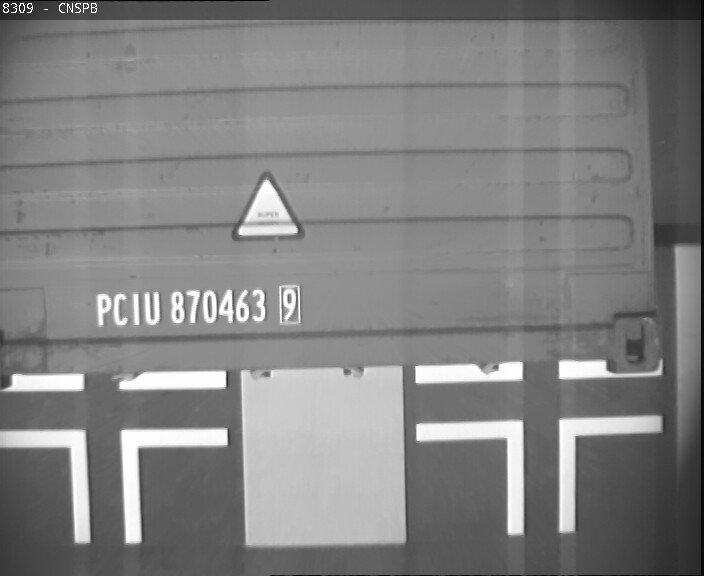groundmarker_1: (416, 415, 660, 532), (1, 428, 227, 543)
